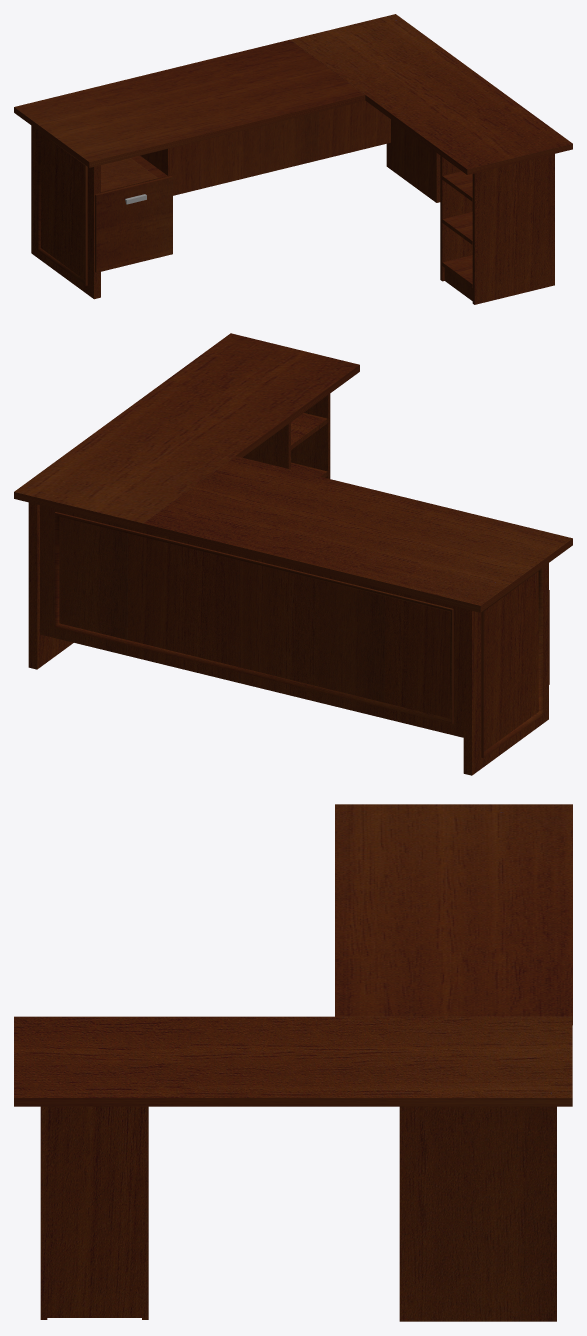
Rendered from Table.FBX.
The picture shows the model from 3 angles, top to bottom: view 1: azimuth 30°, elevation 25°; view 2: azimuth 150°, elevation 25°; view 3: azimuth 270°, elevation 25°; orthographic projection. The views are drawn at different scales.
Parts seen in each view (by area): view 1: table; view 2: table; view 3: table.
Boxes of the visible parts, bbox=[...] form: table: bbox=[14, 14, 572, 304]; table: bbox=[14, 333, 572, 775]; table: bbox=[14, 804, 572, 1321].
Bounding box in the file's own units: 211 × 77.01 × 170.
Materials: 2 (1 with a texture image).
